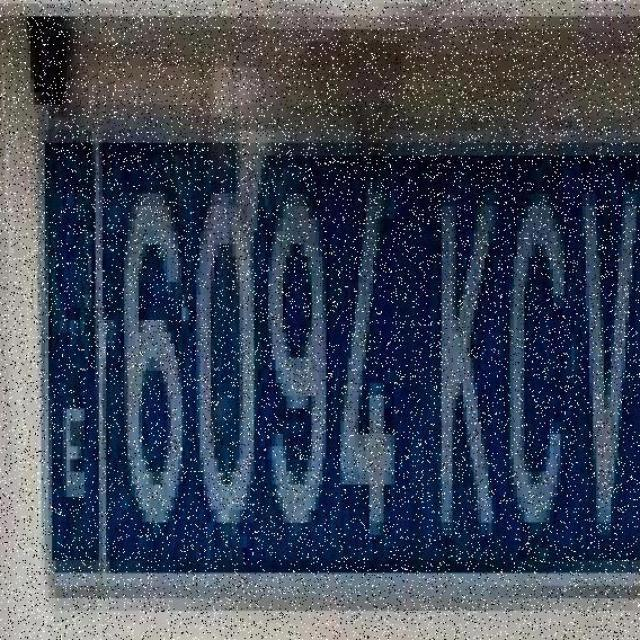license-plate: (48, 142, 640, 573)
